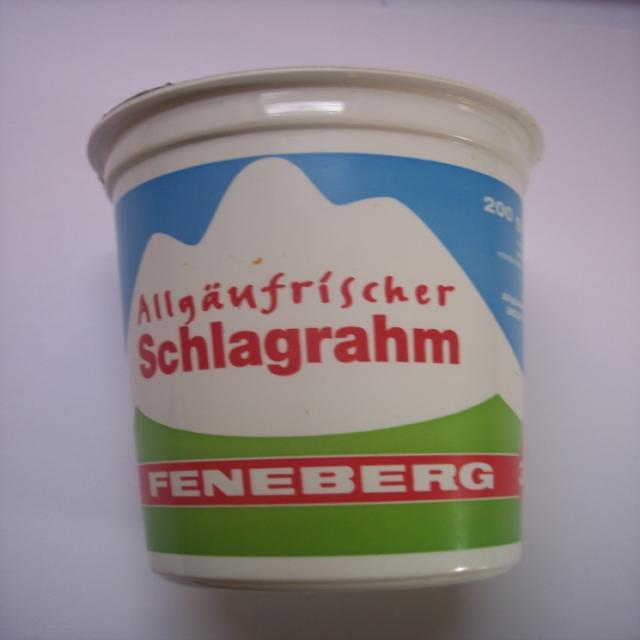Cream: (87, 66, 543, 589)
